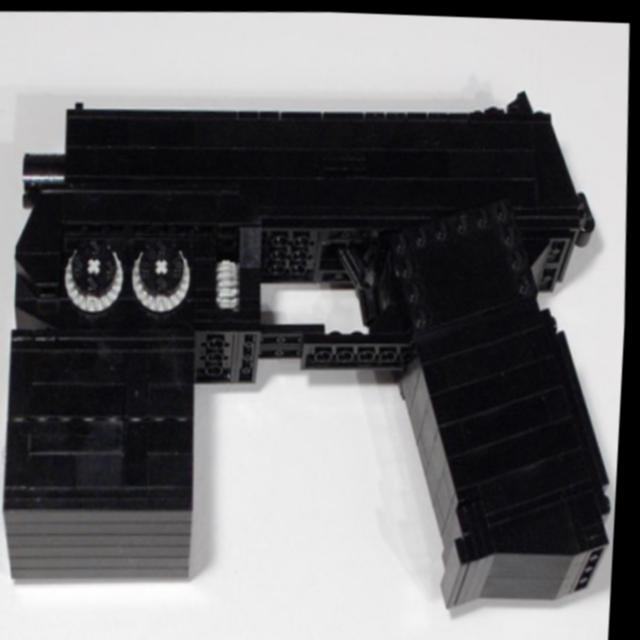weapon: (0, 69, 637, 622)
